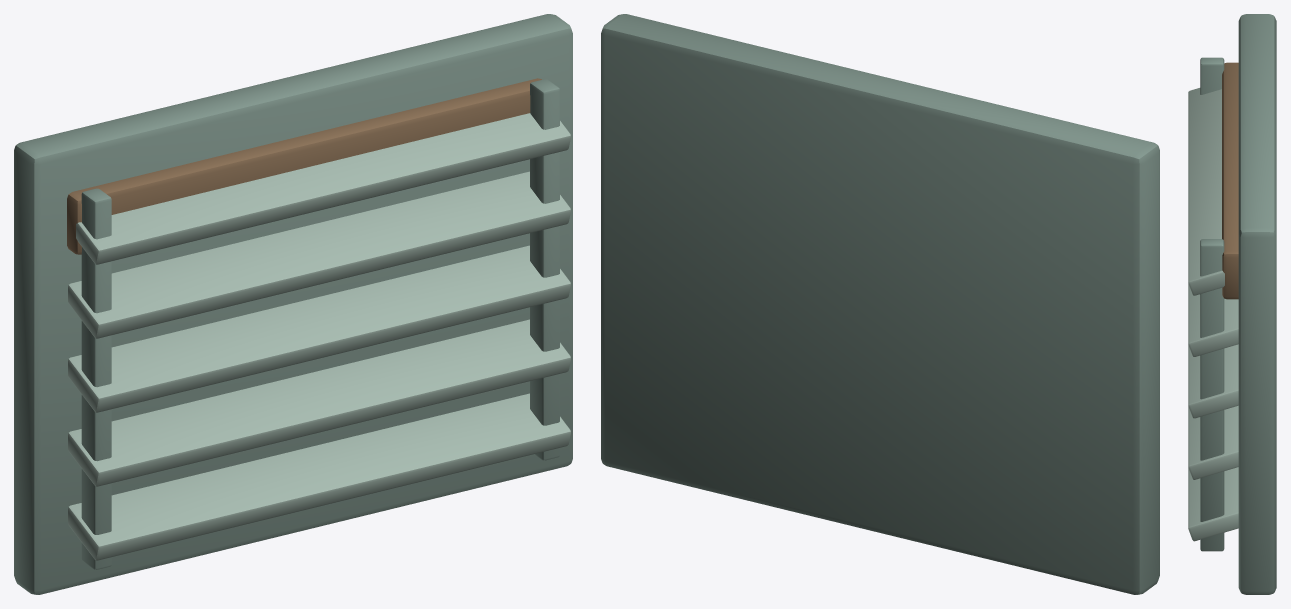
The model's file is CTCC_ENV_CH01ReplacementShutter.fbx.
3 views of the same model, side by side, from view 1: azimuth 30°, elevation 25°; view 2: azimuth 150°, elevation 25°; view 3: azimuth 270°, elevation 25° (orthographic). The views are drawn at different scales.
Visible parts, largest first — view 1: CTCC_ENV_CH01ReplacementShutter_LOD0; view 2: CTCC_ENV_CH01ReplacementShutter_LOD0; view 3: CTCC_ENV_CH01ReplacementShutter_LOD0.
Boxes of the visible parts, left/top/right/bottom form: CTCC_ENV_CH01ReplacementShutter_LOD0: left=14, top=14, right=572, bottom=594; CTCC_ENV_CH01ReplacementShutter_LOD0: left=601, top=14, right=1159, bottom=594; CTCC_ENV_CH01ReplacementShutter_LOD0: left=1188, top=14, right=1276, bottom=594.
Size of what is drawn, in the model's own units: 0.63 by 0.49 by 0.1069.
